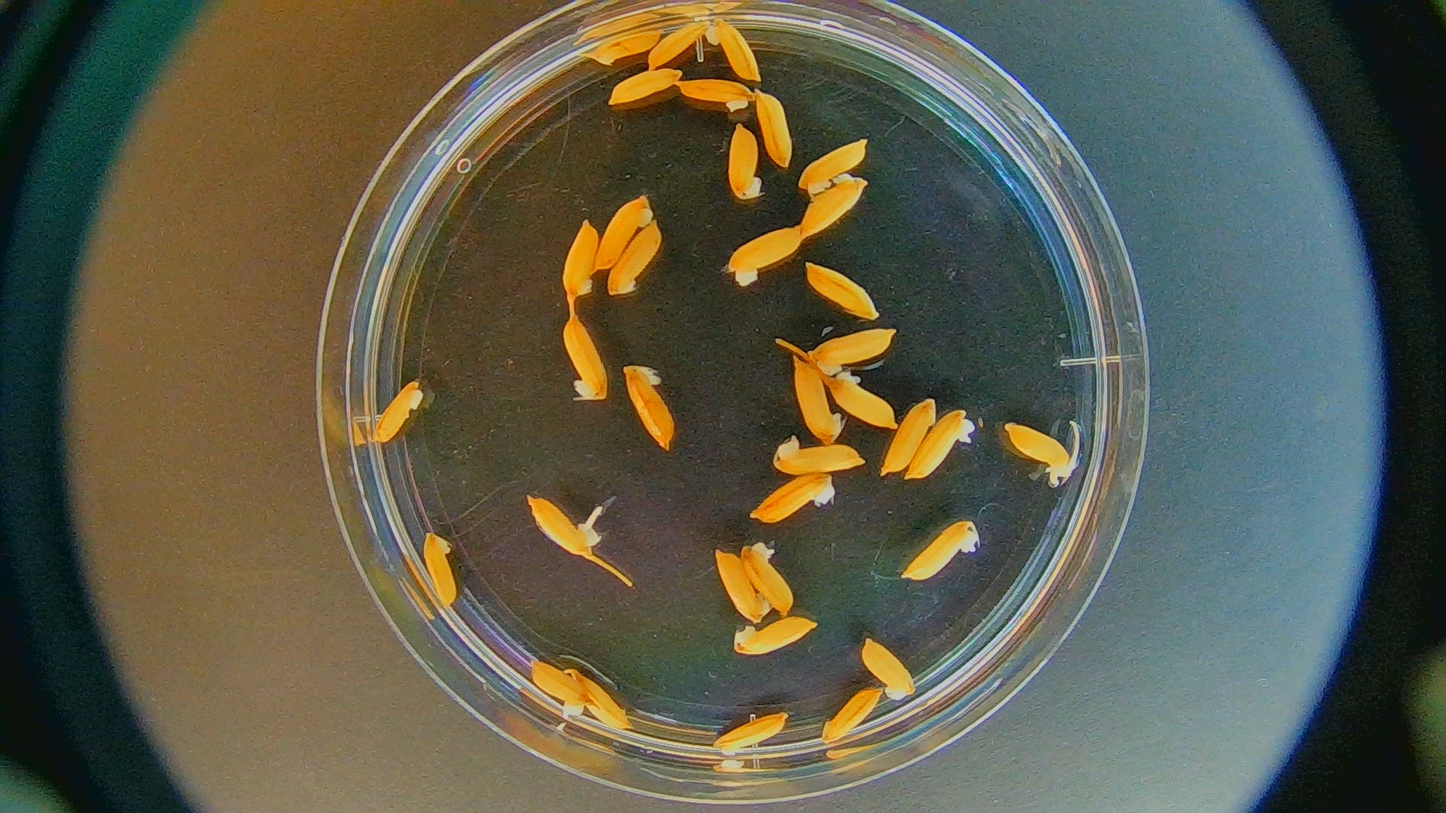no: (596, 191, 658, 276), (792, 358, 850, 442), (606, 218, 667, 296), (901, 519, 978, 580), (909, 413, 972, 485), (805, 260, 878, 322), (727, 224, 803, 279), (624, 367, 674, 450), (881, 399, 937, 470), (805, 172, 865, 238), (798, 136, 868, 192), (753, 473, 833, 522), (714, 553, 770, 623), (529, 653, 584, 722), (827, 376, 896, 431), (572, 670, 635, 730), (706, 17, 765, 81), (755, 84, 798, 171), (740, 543, 792, 614), (648, 11, 711, 69), (562, 317, 606, 400), (773, 436, 866, 475), (813, 328, 897, 371), (727, 120, 768, 207), (821, 687, 883, 742), (673, 75, 755, 116), (713, 714, 787, 758), (862, 638, 914, 699), (733, 617, 818, 653), (376, 382, 421, 446), (581, 31, 662, 66), (563, 221, 597, 299), (423, 531, 459, 604), (613, 66, 682, 103)
yes: (525, 495, 597, 558), (1002, 424, 1073, 481)
